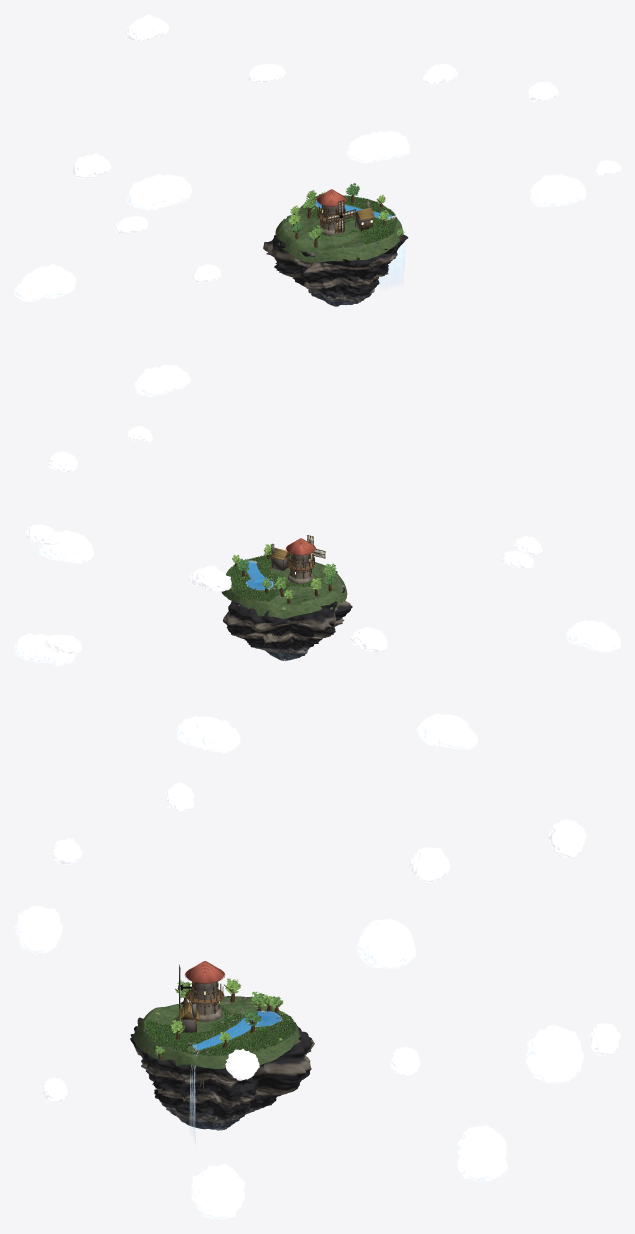
The model's file is island.glb.
3 renders of one model, top to bottom at view 1: azimuth 30°, elevation 25°; view 2: azimuth 150°, elevation 25°; view 3: azimuth 270°, elevation 25°, orthographic. The views are drawn at different scales.
Parts seen in each view (by area): view 1: IslandRock, Terrain, CloudFar01, CloudFar02, CloudFar00, CloudFar06, CloudFar03, GrassBlades, GrassBladesFar, CloudC, CloudA, CloudF (+1 smaller); view 2: IslandRock, Terrain, CloudFar01, CloudFar02, CloudFar03, CloudFar06, CloudFar00, GrassBlades, GrassBladesFar, CloudC, CloudA, CloudF (+3 smaller); view 3: IslandRock, Terrain, GrassBlades, CloudFar01, CloudFar00, GrassBladesFar, CloudFar02, CloudFar06, CloudFar03, CloudC, CloudA, CloudF (+6 smaller).
Part boxes in pixels (left/top/right/bottom): IslandRock: left=263, top=234, right=408, bottom=306; Terrain: left=275, top=200, right=402, bottom=262; CloudFar01: left=127, top=174, right=192, bottom=210; CloudFar02: left=14, top=263, right=75, bottom=301; CloudFar00: left=346, top=130, right=410, bottom=163; CloudFar06: left=530, top=173, right=586, bottom=207; CloudFar03: left=134, top=364, right=190, bottom=397; GrassBlades: left=283, top=194, right=397, bottom=243; GrassBladesFar: left=283, top=193, right=397, bottom=244; CloudC: left=125, top=14, right=169, bottom=41; CloudA: left=72, top=153, right=111, bottom=178; CloudF: left=248, top=63, right=285, bottom=84; IslandRock: left=223, top=571, right=352, bottom=660; Terrain: left=221, top=560, right=347, bottom=618; CloudFar01: left=177, top=715, right=240, bottom=753; CloudFar02: left=416, top=713, right=477, bottom=749; CloudFar03: left=566, top=620, right=620, bottom=652; CloudFar06: left=38, top=530, right=94, bottom=564; CloudFar00: left=14, top=633, right=76, bottom=666; GrassBlades: left=226, top=555, right=315, bottom=601; GrassBladesFar: left=226, top=554, right=308, bottom=601; CloudC: left=188, top=566, right=231, bottom=592; CloudA: left=350, top=626, right=387, bottom=652; CloudF: left=45, top=634, right=81, bottom=654; IslandRock: left=130, top=996, right=314, bottom=1130; Terrain: left=133, top=996, right=300, bottom=1068; GrassBlades: left=144, top=997, right=295, bottom=1055; CloudFar01: left=526, top=1024, right=584, bottom=1083; CloudFar00: left=456, top=1125, right=508, bottom=1182; GrassBladesFar: left=144, top=997, right=295, bottom=1056; CloudFar02: left=356, top=918, right=416, bottom=968; CloudFar06: left=191, top=1164, right=245, bottom=1219; CloudFar03: left=14, top=905, right=63, bottom=953; CloudC: left=547, top=819, right=586, bottom=858; CloudA: left=409, top=847, right=450, bottom=882; CloudF: left=589, top=1023, right=620, bottom=1055.
Bounding box in the file's own units: 125 × 49.01 × 97.11.
